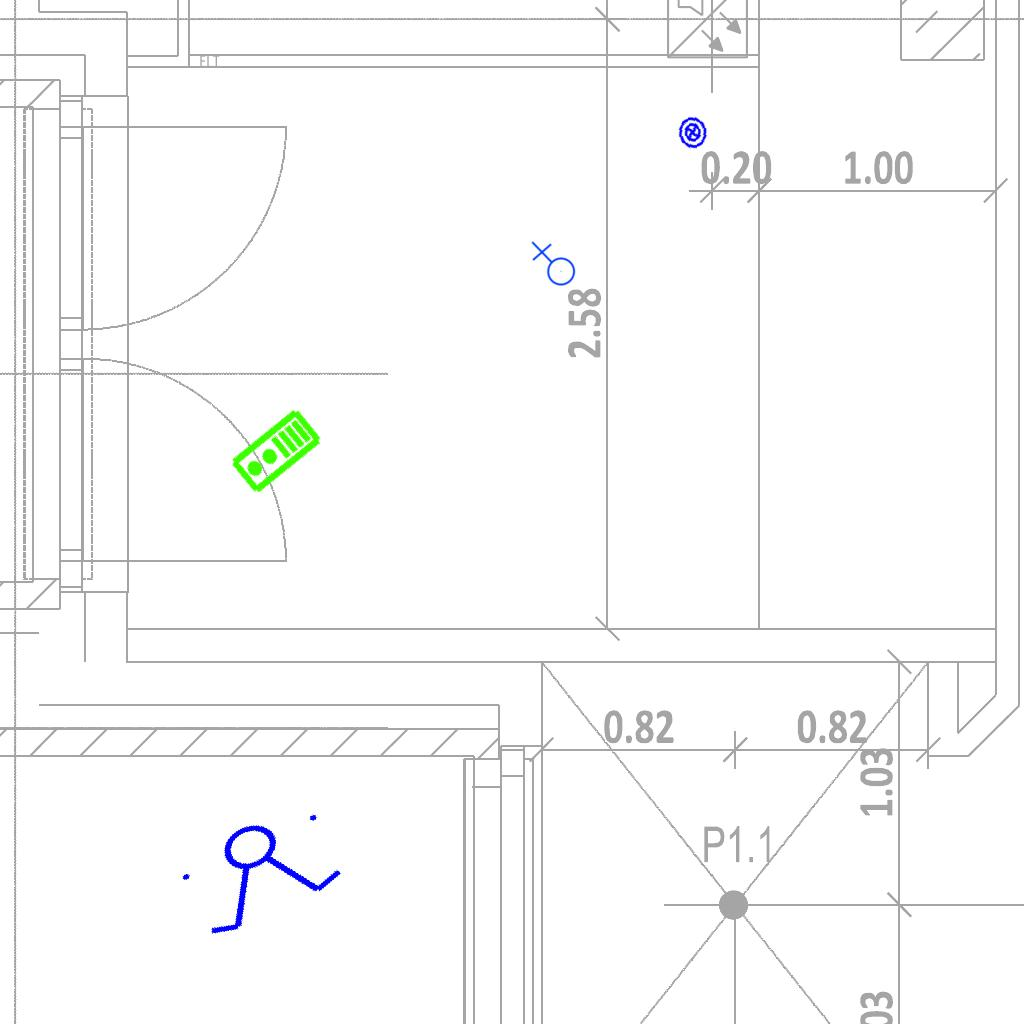Elektroanschluss_allgemein_230V_Geraeteanschlussdose_230V: (529, 241, 576, 290)
Gegensprechanlage_mit_Video: (227, 406, 326, 498)
Serienschalter: (165, 790, 359, 950)
Taster_beleuchtet: (673, 113, 712, 152)
